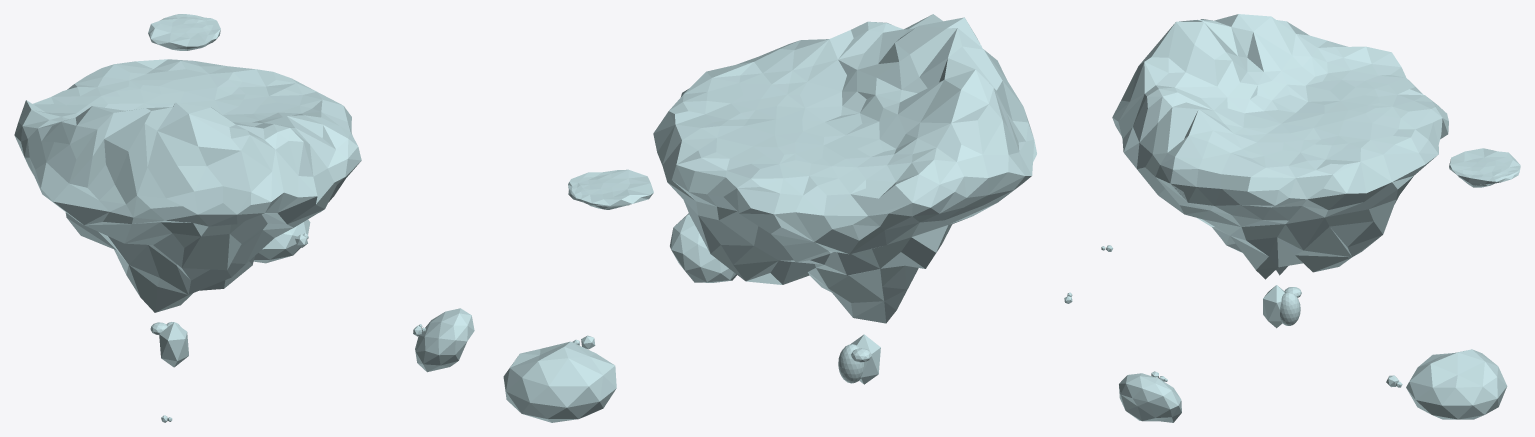
File: iceberg.glb
3 renders of one model, left to right at view 1: azimuth 30°, elevation 25°; view 2: azimuth 150°, elevation 25°; view 3: azimuth 270°, elevation 25°, orthographic. The views are drawn at different scales.
Parts seen in each view (by area): view 1: Iceberg, Icosphere.003, Small Platform, Icosphere, Icosphere.004; view 2: Iceberg, Icosphere, Small Platform, Icosphere.003, Icosphere.005, Icosphere.004; view 3: Iceberg, Icosphere, Icosphere.003, Small Platform, Icosphere.004, Icosphere.005.
Part boxes in pixels (left/top/right/bottom): Iceberg: left=14, top=59, right=361, bottom=312; Icosphere.003: left=415, top=308, right=474, bottom=372; Small Platform: left=148, top=14, right=220, bottom=50; Icosphere: left=253, top=219, right=310, bottom=263; Icosphere.004: left=159, top=322, right=188, bottom=367; Iceberg: left=653, top=14, right=1036, bottom=323; Icosphere: left=503, top=341, right=616, bottom=422; Small Platform: left=568, top=169, right=653, bottom=209; Icosphere.003: left=670, top=213, right=736, bottom=282; Icosphere.005: left=838, top=344, right=863, bottom=383; Icosphere.004: left=850, top=334, right=880, bottom=384; Iceberg: left=1112, top=14, right=1448, bottom=279; Icosphere: left=1406, top=349, right=1507, bottom=419; Icosphere.003: left=1119, top=373, right=1181, bottom=422; Small Platform: left=1449, top=148, right=1520, bottom=187; Icosphere.004: left=1263, top=285, right=1284, bottom=328; Icosphere.005: left=1280, top=292, right=1300, bottom=325.
Bounding box in the file's own units: 9.99 × 7.84 × 10.23.
